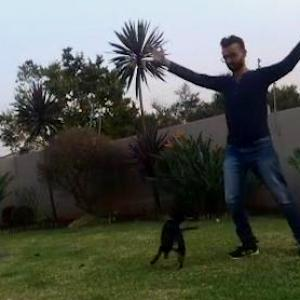takeoff: (152, 21, 299, 246)
